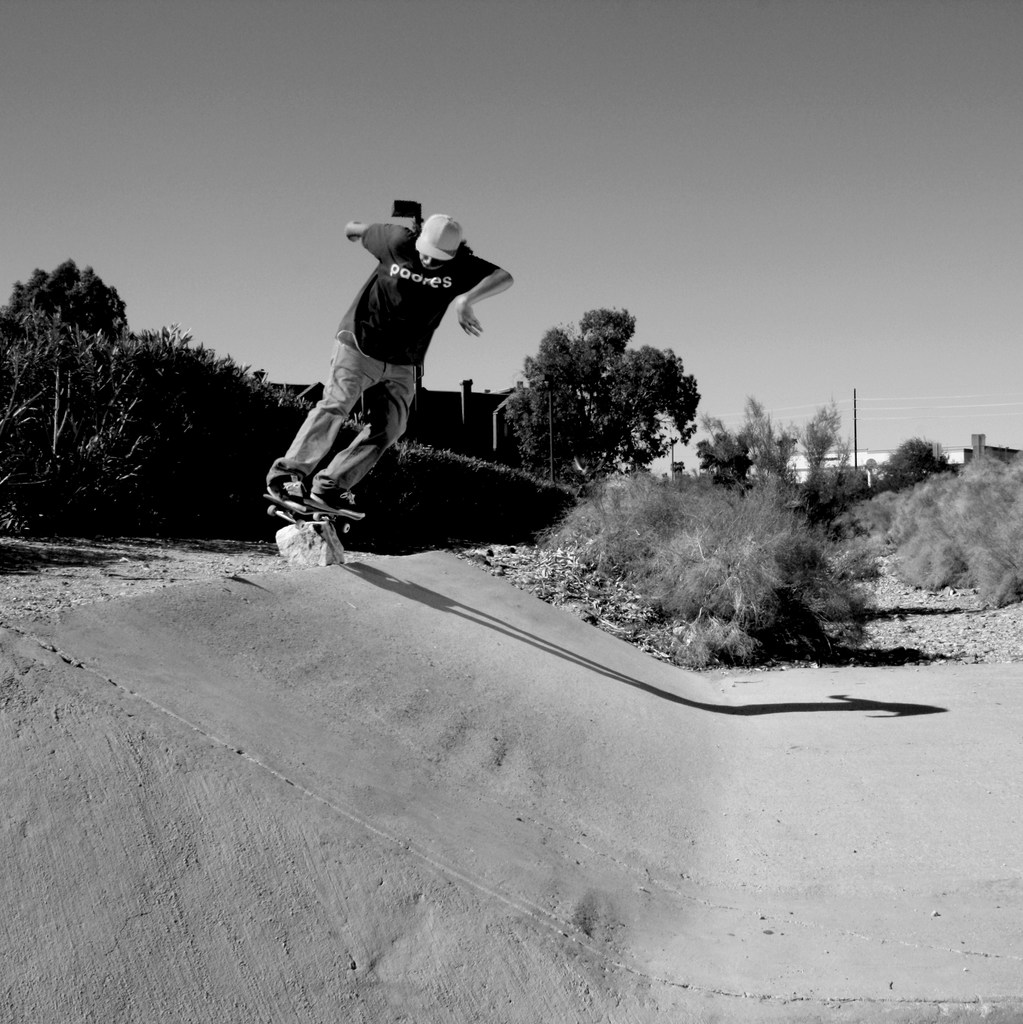person: (263, 210, 514, 521)
